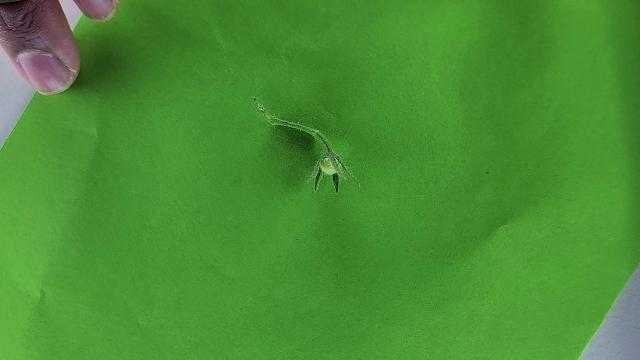Fruit Bud: (307, 150, 356, 195), (319, 152, 340, 174)
